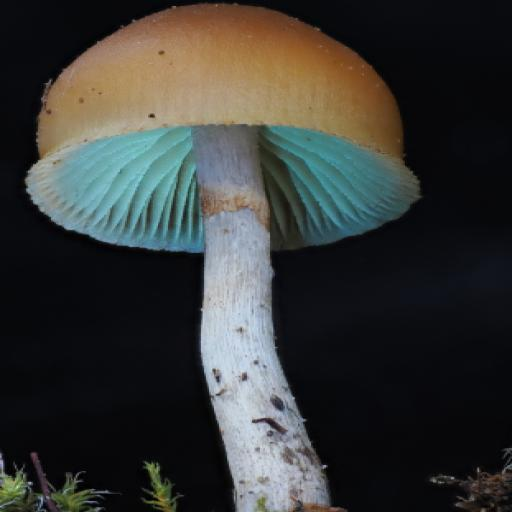mushroom: (26, 3, 431, 419)
